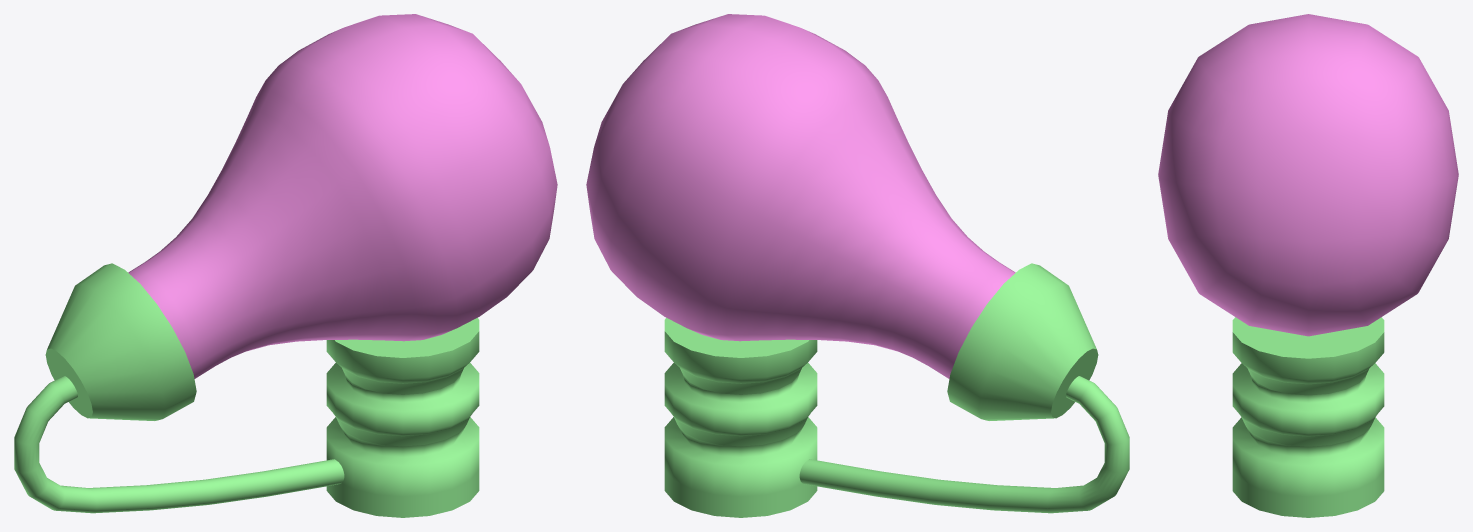
The model's file is DenderaLamp.FBX.
The picture shows the model from 3 angles, left to right: view 1: azimuth 30°, elevation 25°; view 2: azimuth 150°, elevation 25°; view 3: azimuth 270°, elevation 25°; orthographic projection.
Visible parts, largest first — view 1: Cristal, BaseBombilla; view 2: Cristal, BaseBombilla; view 3: Cristal, BaseBombilla.
Boxes of the visible parts, <box> form: Cristal: <box>128,14,557,378</box>; BaseBombilla: <box>14,263,479,517</box>; Cristal: <box>586,14,1015,378</box>; BaseBombilla: <box>664,263,1129,517</box>; Cristal: <box>1158,14,1458,336</box>; BaseBombilla: <box>1232,317,1384,517</box>.
Size of the model in its own units: 2684 by 2265 by 1357.
